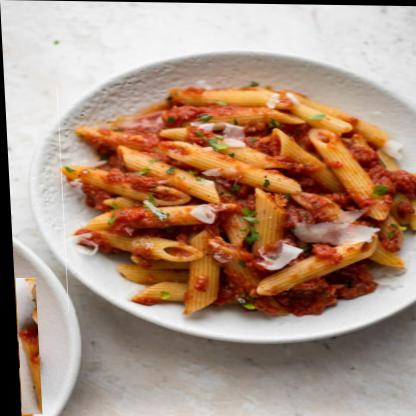pasta: (55, 86, 415, 317), (11, 278, 39, 415)
